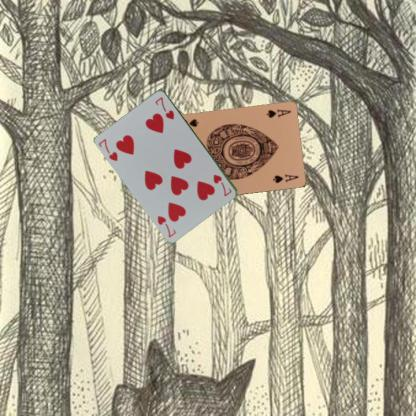7h: (211, 172, 233, 198), (97, 136, 119, 162)
As: (263, 107, 292, 119)
